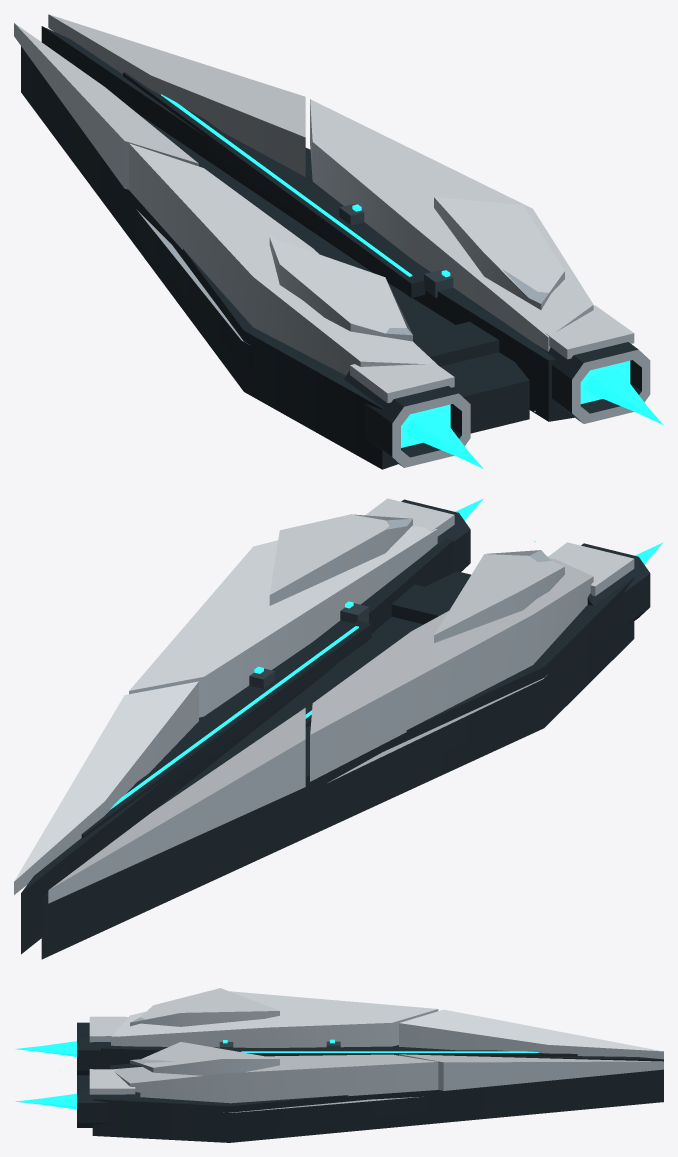
Rendered from 01_korvette.glb.
3 renders of one model, top to bottom at view 1: azimuth 30°, elevation 25°; view 2: azimuth 150°, elevation 25°; view 3: azimuth 270°, elevation 25°, orthographic. The views are drawn at different scales.
Parts seen in each view (by area): view 1: Hull, energy_2, energy_1; view 2: Hull; view 3: Hull, energy_1, energy_2.
Part boxes in pixels (x1,y1,x2,y2): Hull: (14, 14, 650, 469); energy_2: (580, 360, 663, 424); energy_1: (401, 404, 483, 468); Hull: (14, 498, 650, 959); Hull: (77, 988, 663, 1142); energy_1: (15, 1041, 76, 1056); energy_2: (15, 1093, 76, 1109).
Size of the model in its own units: 2.1 by 0.84 by 6.55.
